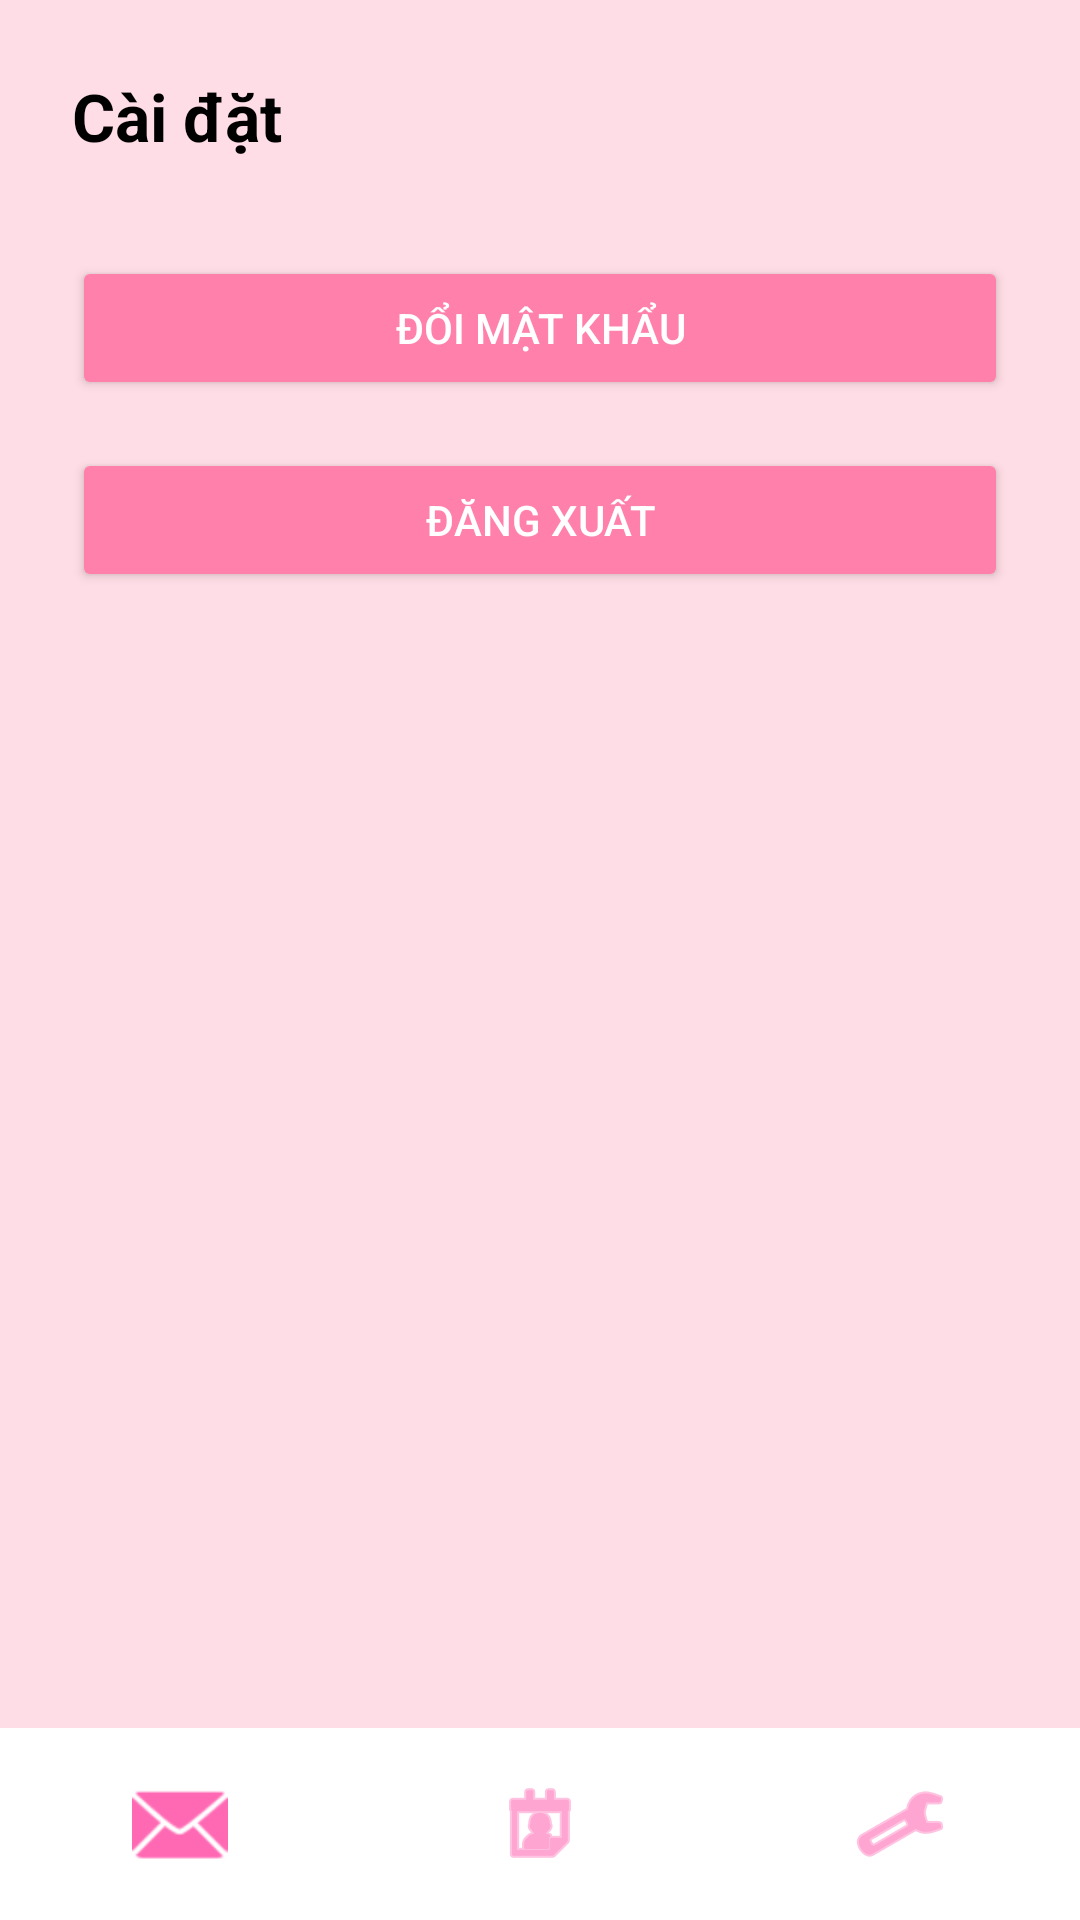

Named icons in this screenshot (1080w x 1920h) and their centers, [x,y]:
Messages: [180,1825]
Profile: [540,1823]
Settings: [900,1824]
